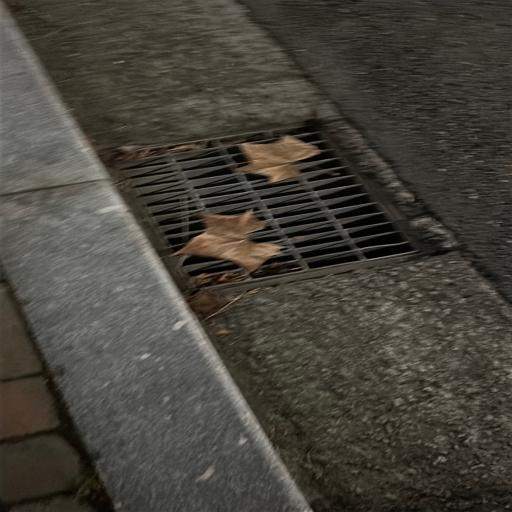debris: (177, 211, 282, 296), (212, 128, 320, 183), (114, 140, 207, 202), (291, 269, 325, 279), (385, 208, 399, 215)
drain: (110, 125, 443, 297)
